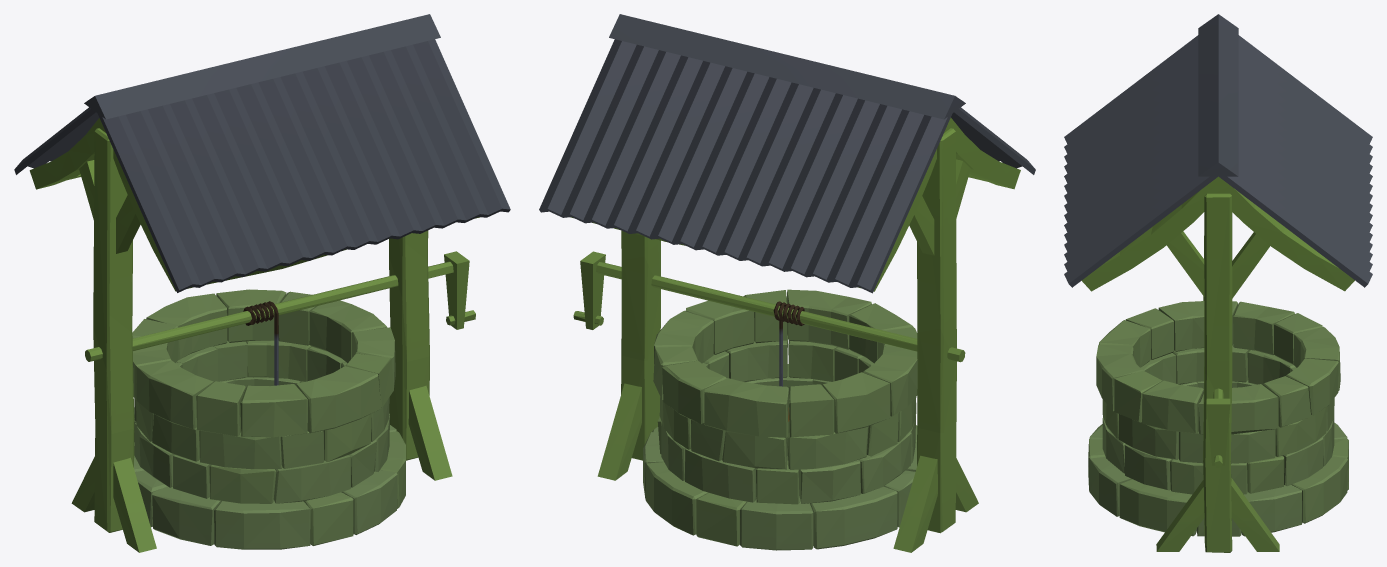
The model's file is Well_01.fbx.
3 renders of one model, left to right at view 1: azimuth 30°, elevation 25°; view 2: azimuth 150°, elevation 25°; view 3: azimuth 270°, elevation 25°, orthographic. The views are drawn at different scales.
Visible parts, largest first — view 1: Well_01; view 2: Well_01; view 3: Well_01.
Part boxes in pixels (x1,y1,x2,y2): Well_01: (14, 14, 510, 552); Well_01: (539, 14, 1035, 552); Well_01: (1064, 14, 1372, 552).
Size of the model in its own units: 2.19 by 2.36 by 1.67.
